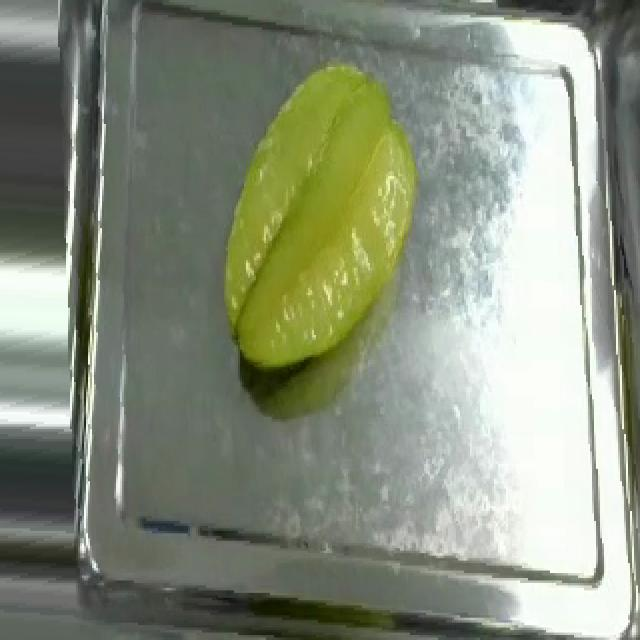fruit: (208, 47, 430, 385)
